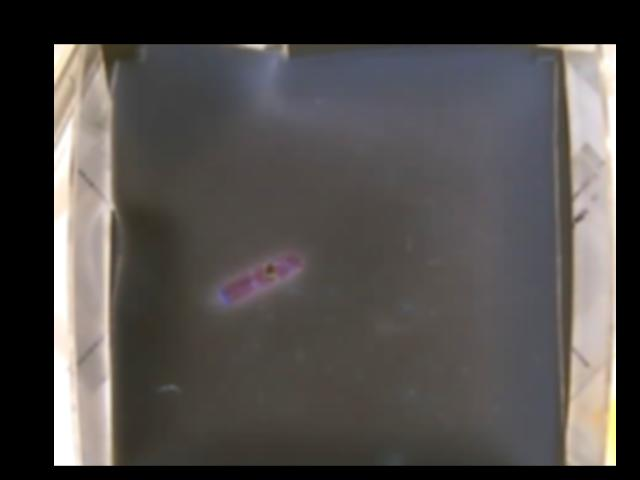Battery: (219, 251, 304, 303)
